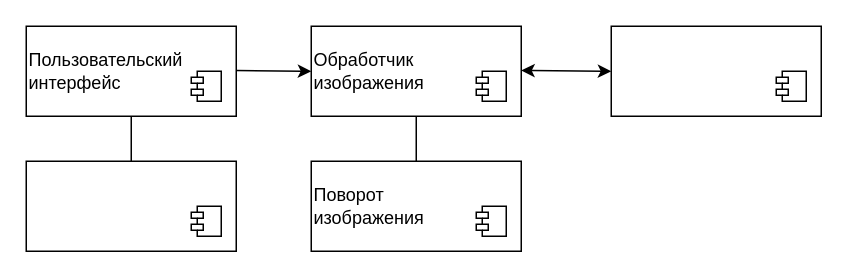
Image size: 848x278. Some labels were removed from this diagram. Each missing label, with the box of its shape:
Загрузка результатов: (25, 160, 236, 251)
Файловая система: (610, 25, 821, 116)
